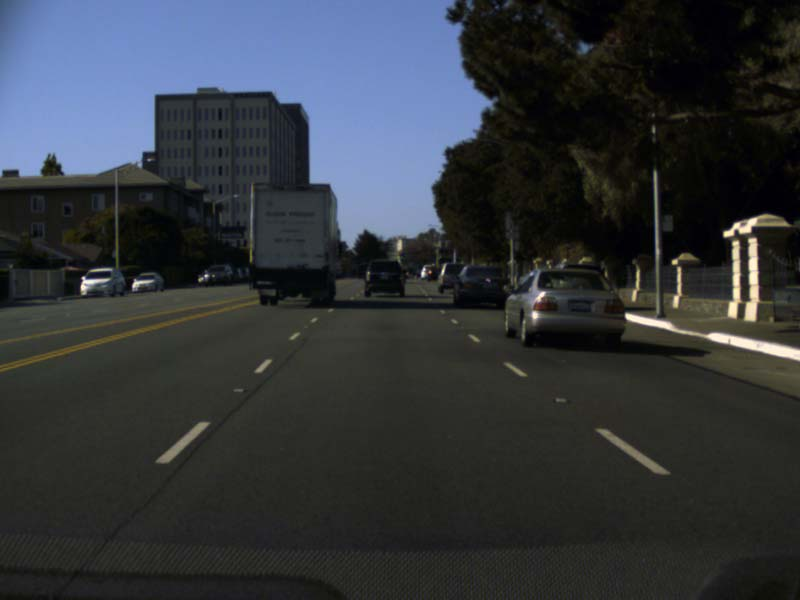Green: (400, 253, 403, 259)
